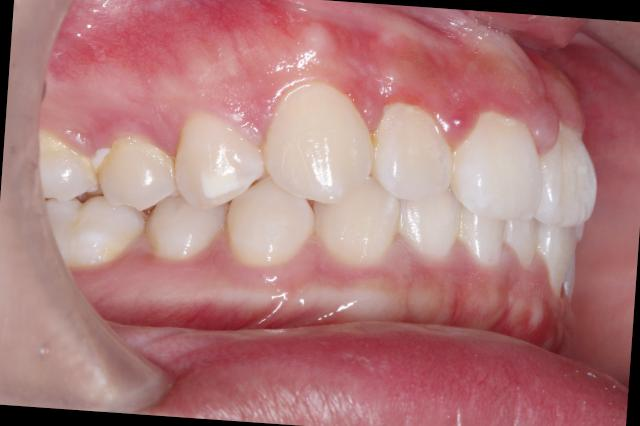canine class II 1/4: (217, 76, 406, 290)
